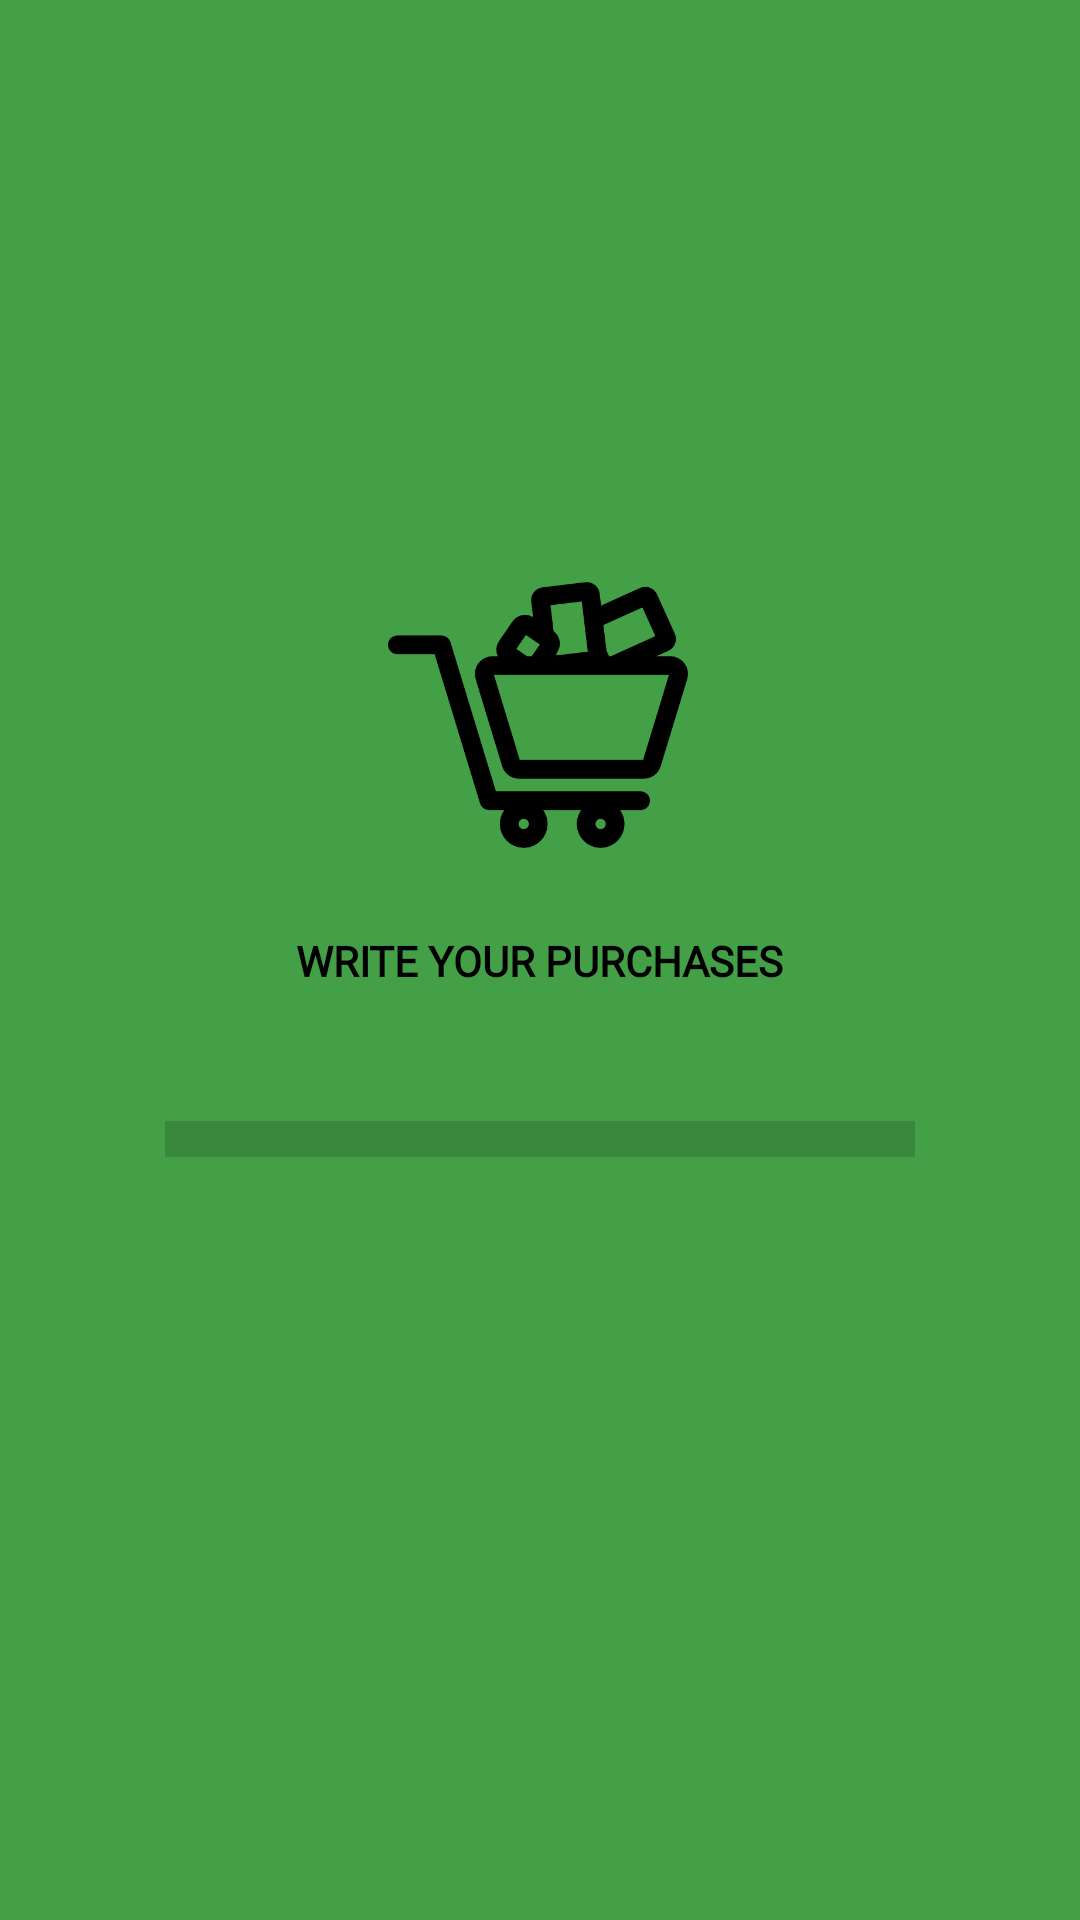

Screen size 1080 x 1920. Icon name, then its box in pixels as (x1, y1, x2, y2):
shop: (388, 582, 688, 848)
